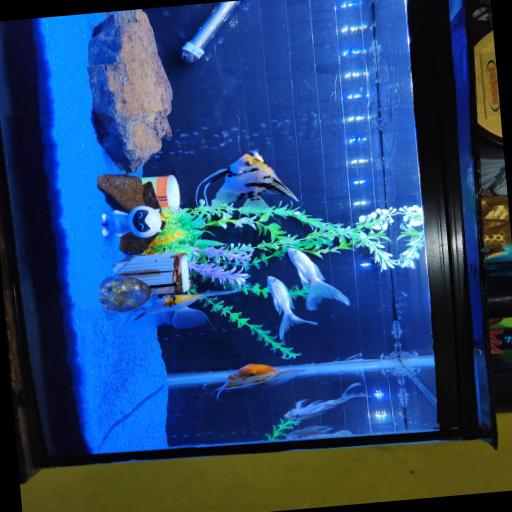Fish: (202, 150, 296, 211), (130, 290, 237, 329), (287, 247, 349, 310), (211, 363, 302, 399), (267, 276, 316, 339), (283, 382, 365, 418), (285, 425, 351, 439)
